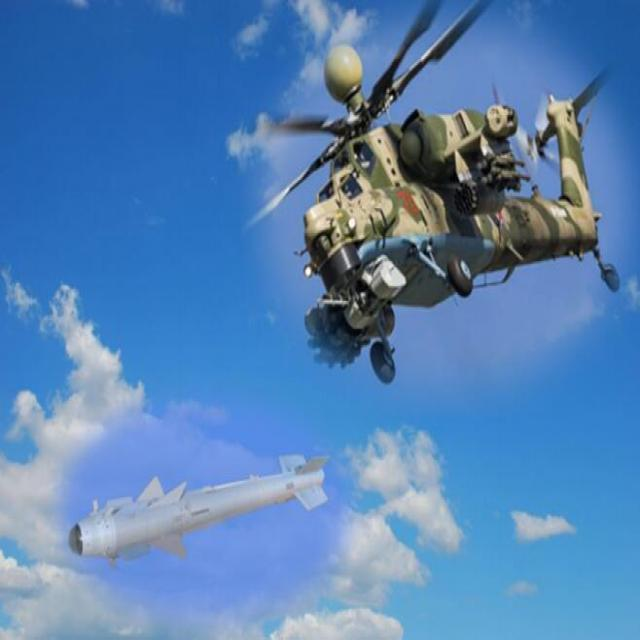MIL_HELO: (218, 0, 631, 387)
